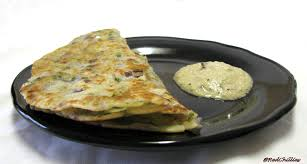rotti: (21, 27, 202, 138)
